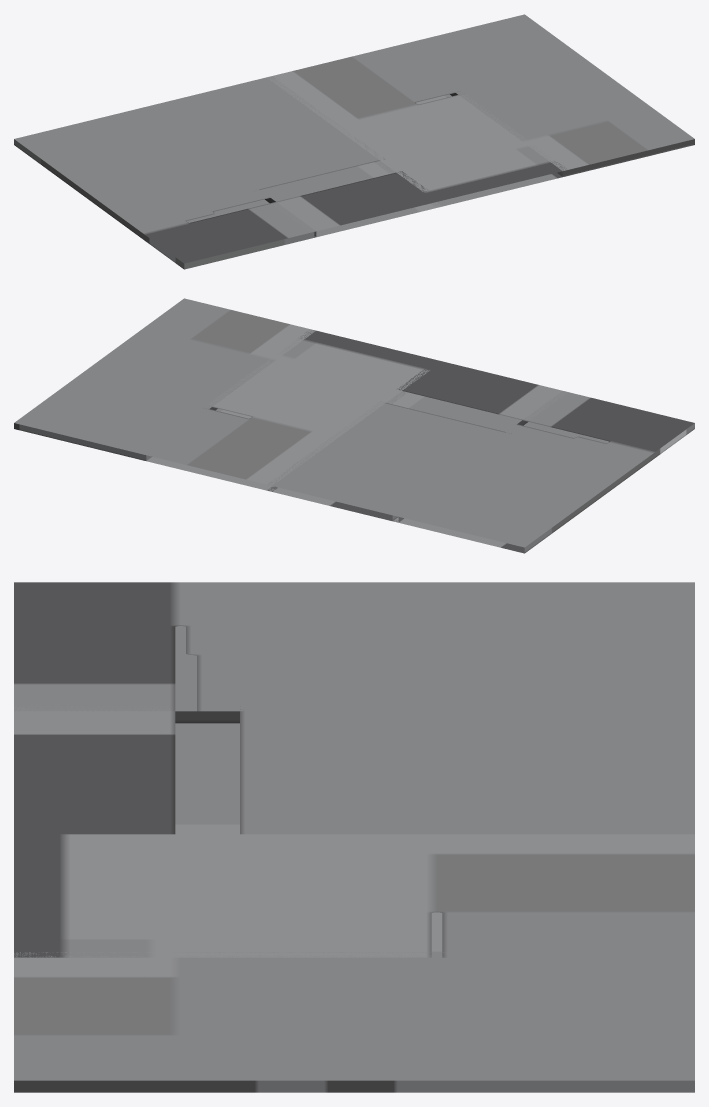
3 views of the same model, one above another, from view 1: azimuth 30°, elevation 25°; view 2: azimuth 150°, elevation 25°; view 3: azimuth 270°, elevation 25° (orthographic). The views are drawn at different scales.
Bounding box in the file's own units: 4.24 × 0.0476 × 2.45.
